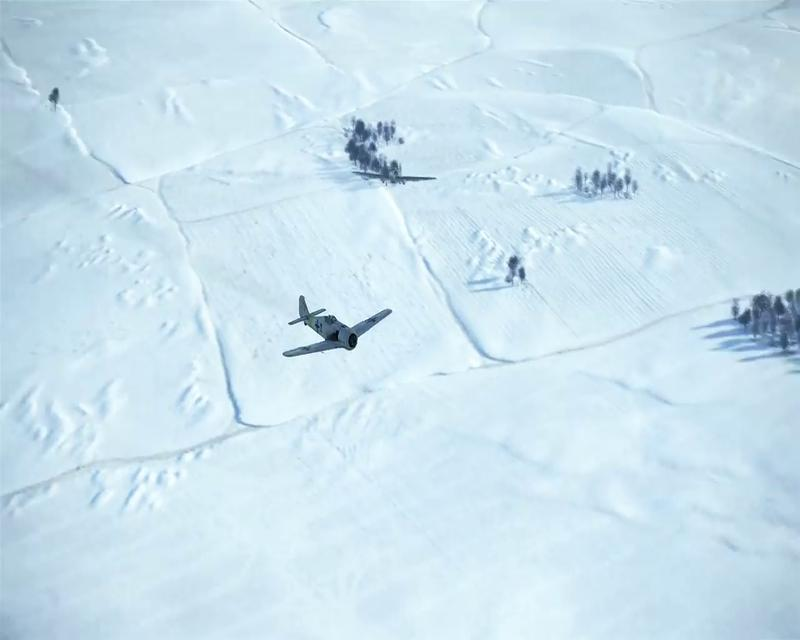UAV: (281, 293, 392, 358)
